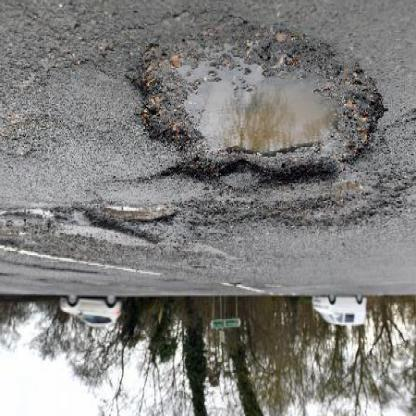pothole: (135, 26, 388, 191), (86, 201, 180, 248)
